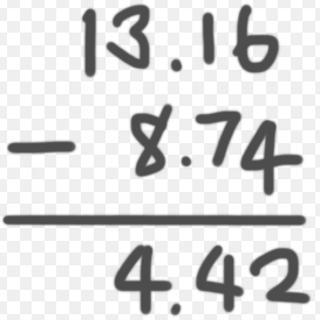.: (164, 46, 186, 77), (177, 144, 193, 175), (164, 300, 184, 314)
1: (72, 3, 101, 82), (195, 7, 219, 75)
2: (242, 238, 315, 313)
3: (104, 3, 155, 77)
4: (241, 118, 304, 203), (101, 241, 171, 314), (193, 239, 246, 312)
6: (229, 4, 284, 79)
7: (194, 101, 242, 175)
8: (119, 100, 174, 185)
